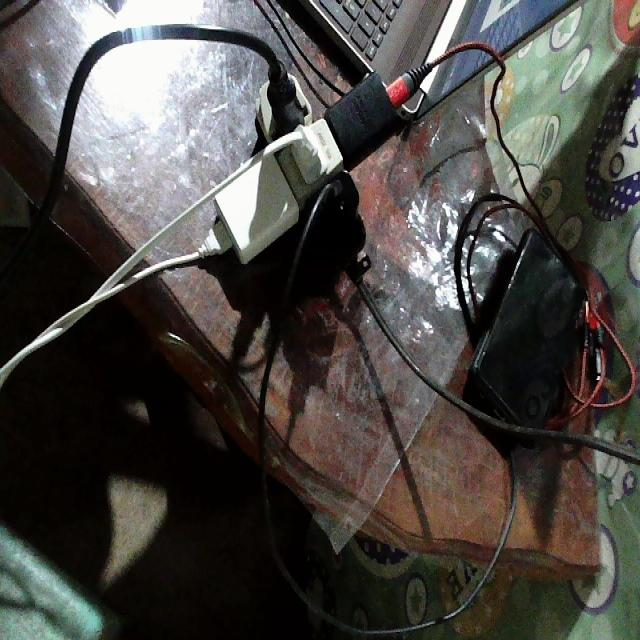-: (178, 12, 465, 375)
